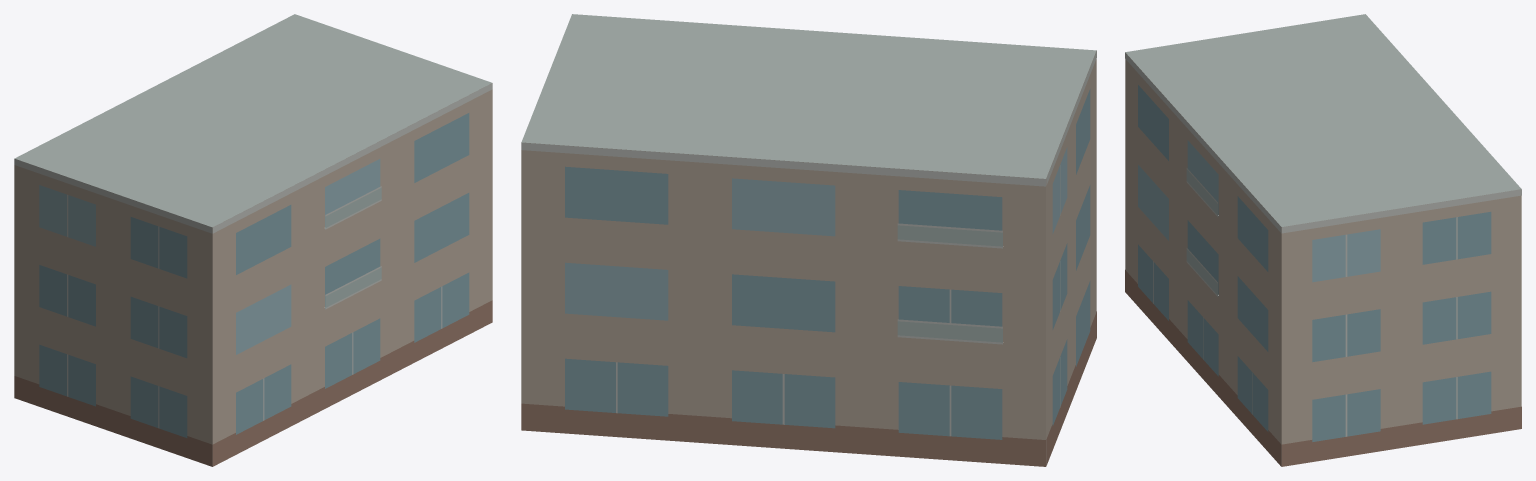
Rendered from survey-upis-32721278.glb.
The picture shows the model from 3 angles, left to right: view 1: azimuth 30°, elevation 25°; view 2: azimuth 150°, elevation 25°; view 3: azimuth 270°, elevation 25°; orthographic projection. The views are drawn at different scales.
Parts seen in each view (by area): view 1: survey-upis-32721278.tmp; view 2: survey-upis-32721278.tmp; view 3: survey-upis-32721278.tmp.
Boxes of the visible parts, bbox=[...] form: survey-upis-32721278.tmp: bbox=[14, 14, 492, 466]; survey-upis-32721278.tmp: bbox=[521, 14, 1096, 466]; survey-upis-32721278.tmp: bbox=[1125, 14, 1521, 466].
Size of the model in its own units: 17.45 by 9.15 by 13.73.
